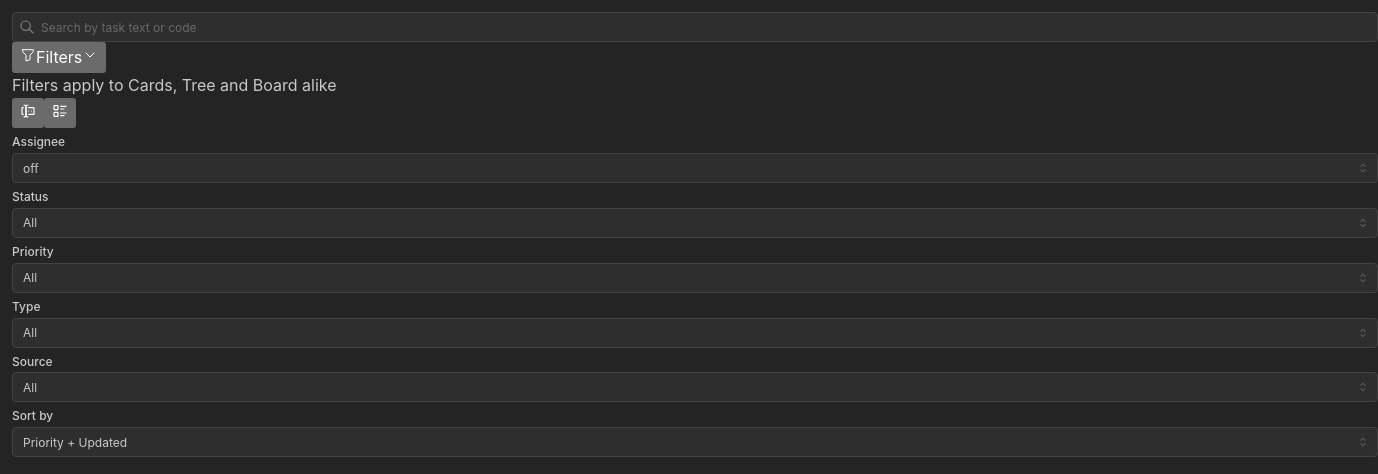
Test case: TaskFilters — sk-285.5.5 assignee directory search › server matches join the local options while a term is typed
Click the field labelled "Assignee": coordinates (695, 168) [12,153,1377,183]
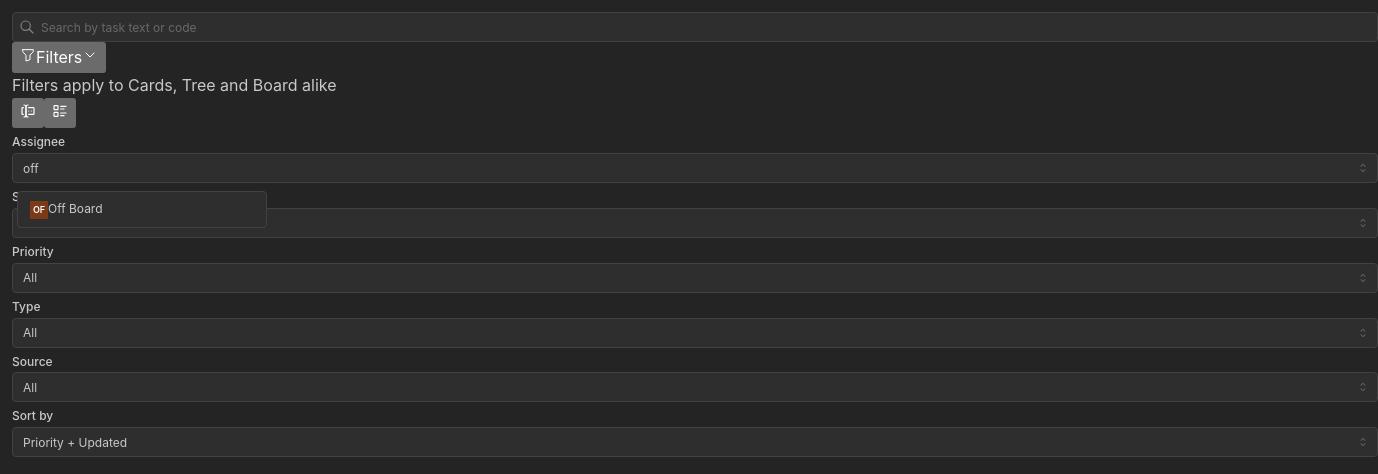
Now the option "OF Off Board" is shown, box [30,201,102,219]
